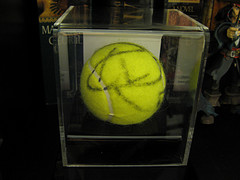tennis ball: (79, 41, 168, 128)
